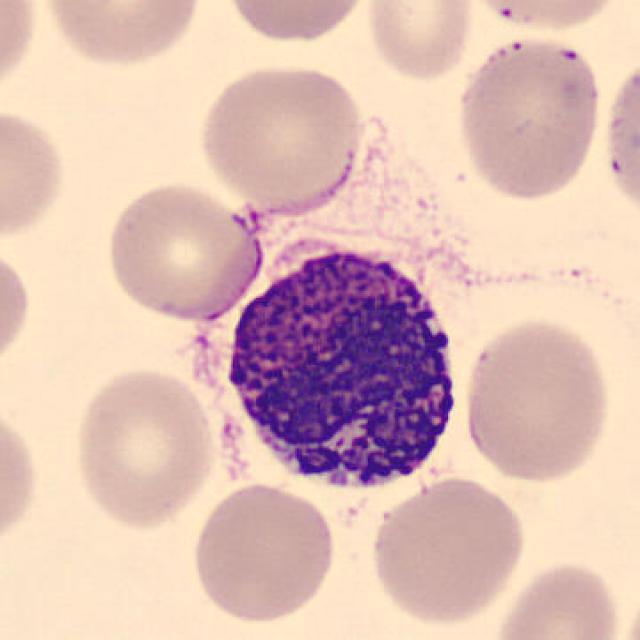Basophil: (195, 225, 473, 508)
RBC: (194, 58, 368, 217), (459, 314, 615, 486), (452, 32, 606, 205), (68, 363, 220, 533), (364, 474, 530, 628), (101, 176, 267, 324), (186, 478, 340, 626), (39, 0, 206, 71), (489, 555, 626, 640), (0, 102, 71, 249), (363, 0, 478, 83), (597, 48, 640, 226), (219, 0, 373, 46), (0, 397, 41, 560), (464, 0, 627, 35), (0, 240, 34, 381), (0, 0, 41, 109)
